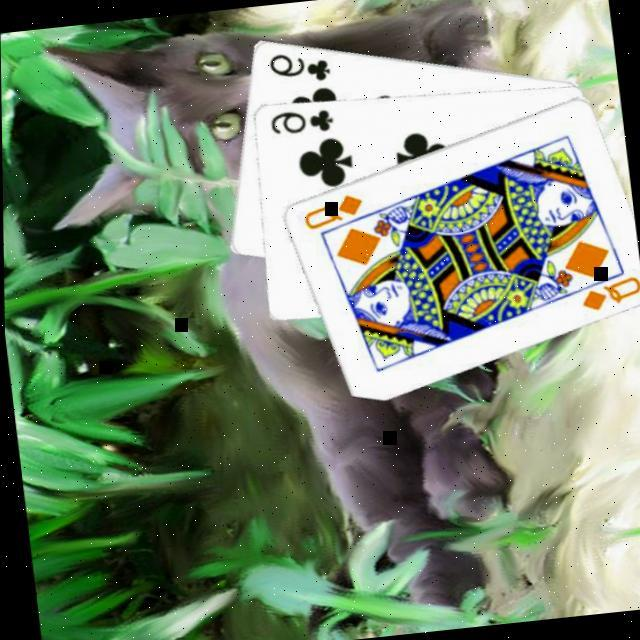6C: (262, 100, 336, 138)
9C: (261, 42, 334, 87)
QD: (294, 187, 367, 232), (572, 270, 640, 314)
